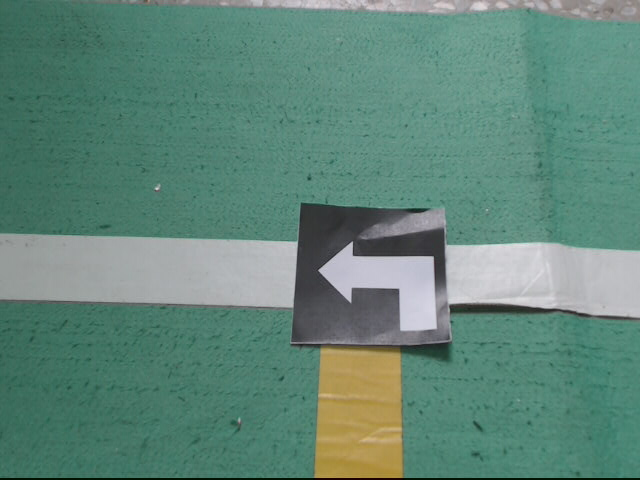left: (288, 200, 453, 348)
